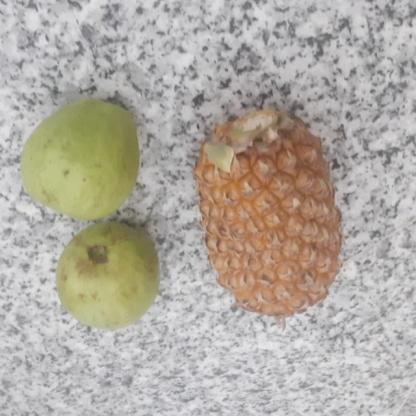guava: (16, 100, 140, 216), (51, 223, 161, 328)
pineapple: (195, 106, 341, 322)
